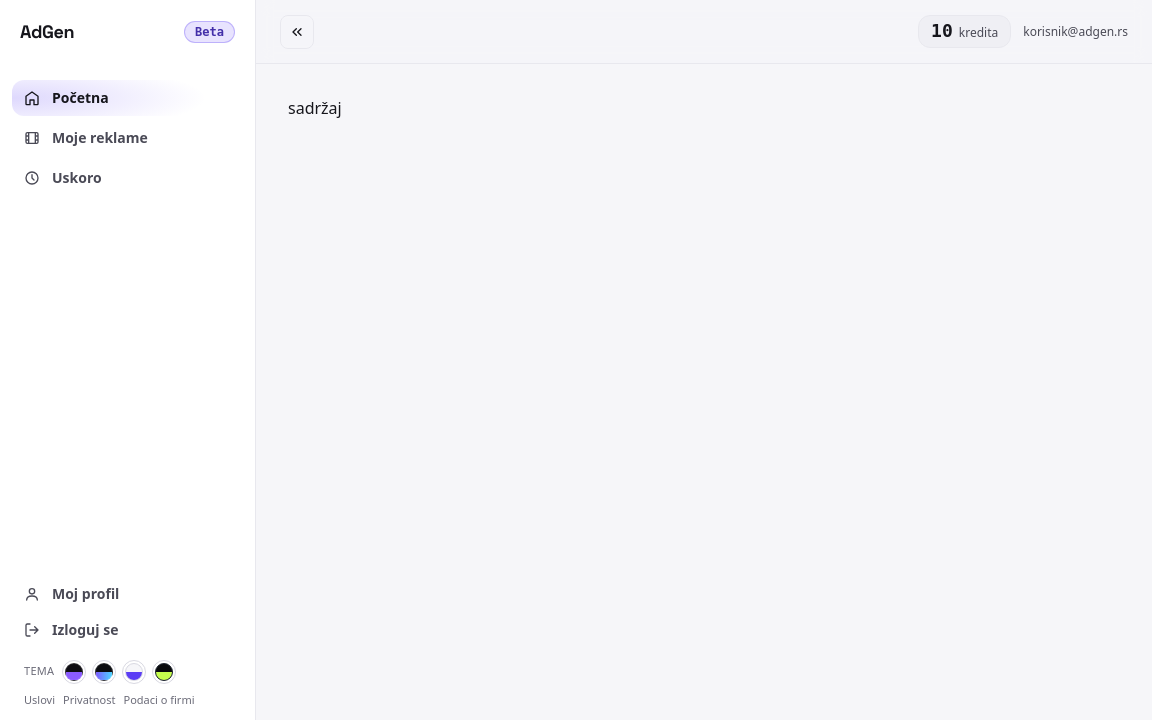
Scenario: AppShell › collapsing flips the name to "Prikaži meni" and the control STAYS in the document
Step 1. Click the button named "Sakrij meni" → (297, 32), box x1=280 y1=14 x2=314 y2=48
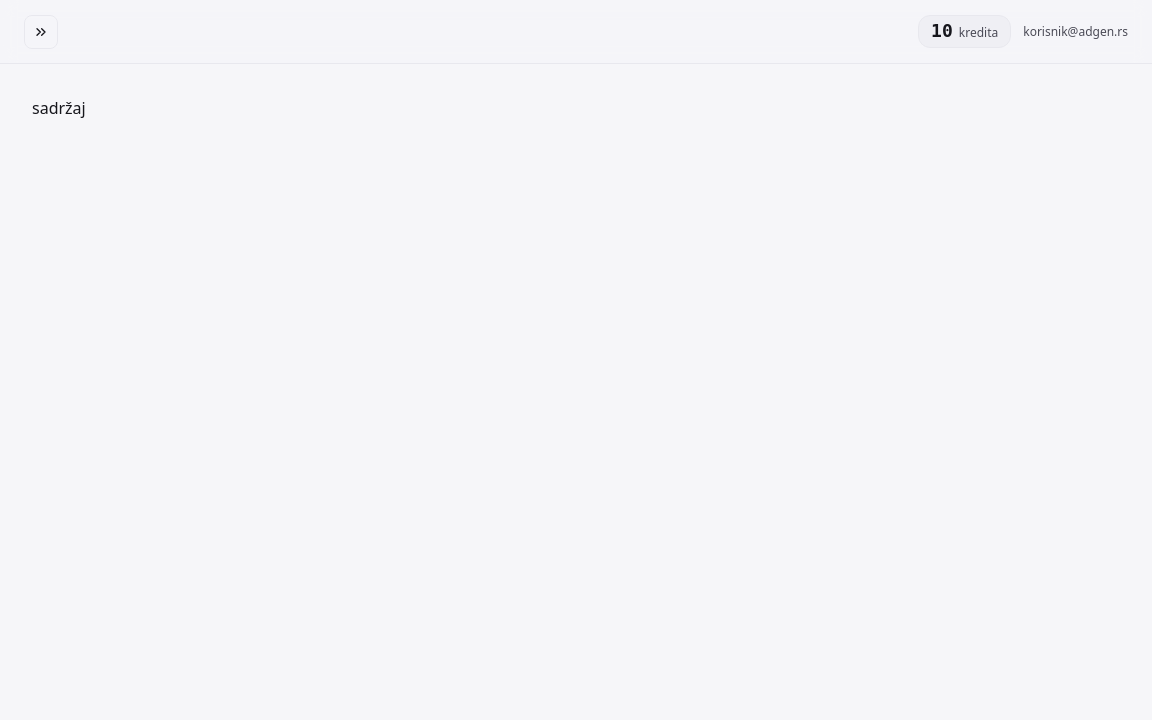
Expected: the button named "Prikaži meni" is collapsed, x1=24 y1=14 x2=58 y2=48
